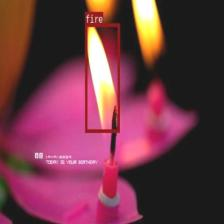fire: (84, 23, 119, 132)
